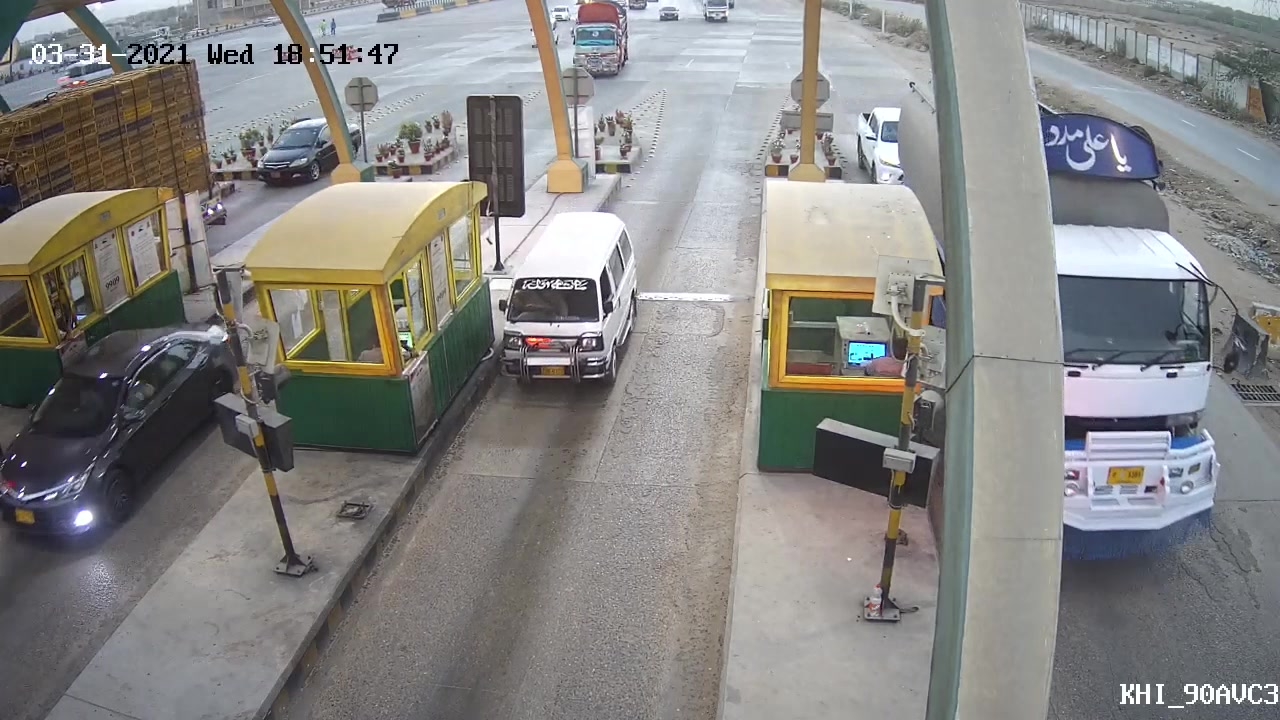F2: (500, 209, 642, 385)
